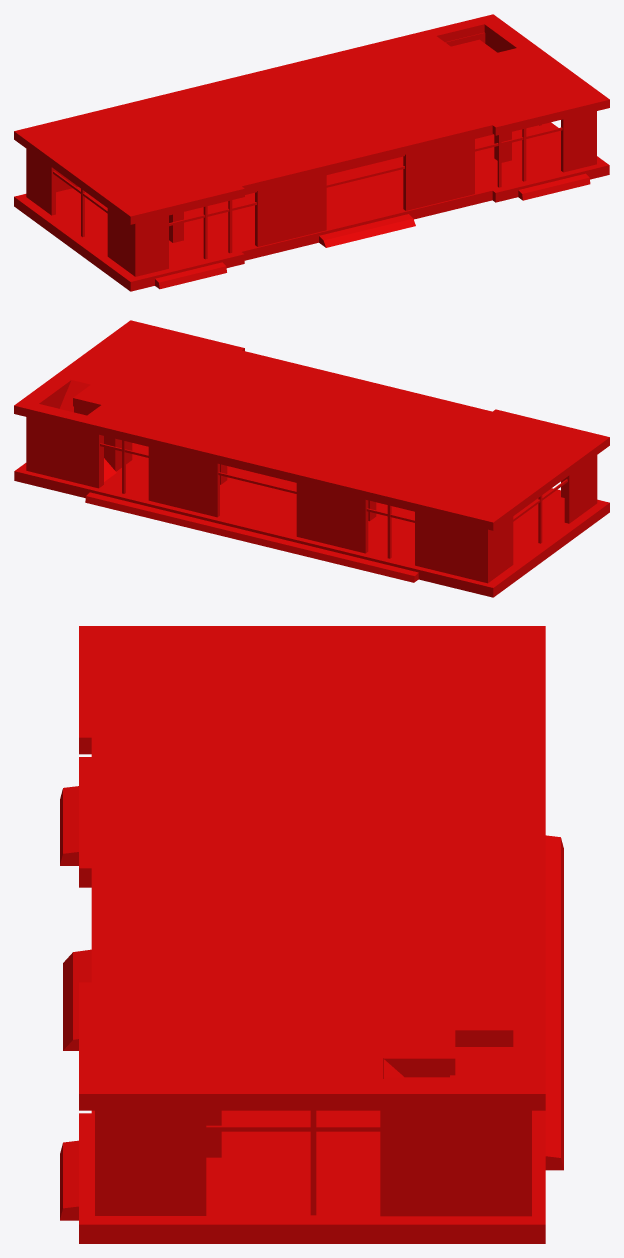
The model's file is SM_Bld_HighRise_Large_01_Interior_Base_01_Collision.fbx.
The picture shows the model from 3 angles, top to bottom: view 1: azimuth 30°, elevation 25°; view 2: azimuth 150°, elevation 25°; view 3: azimuth 270°, elevation 25°; orthographic projection. The views are drawn at different scales.
Visible parts, largest first — view 1: SM_Bld_HighRise_Large_01_Interior_Base_01_Collision; view 2: SM_Bld_HighRise_Large_01_Interior_Base_01_Collision; view 3: SM_Bld_HighRise_Large_01_Interior_Base_01_Collision.
Part boxes in pixels (x1,y1,x2,y2): SM_Bld_HighRise_Large_01_Interior_Base_01_Collision: [14, 14, 609, 291]; SM_Bld_HighRise_Large_01_Interior_Base_01_Collision: [14, 320, 609, 597]; SM_Bld_HighRise_Large_01_Interior_Base_01_Collision: [60, 626, 563, 1243].
Size of the model in its own units: 2680 by 402 by 1221.
